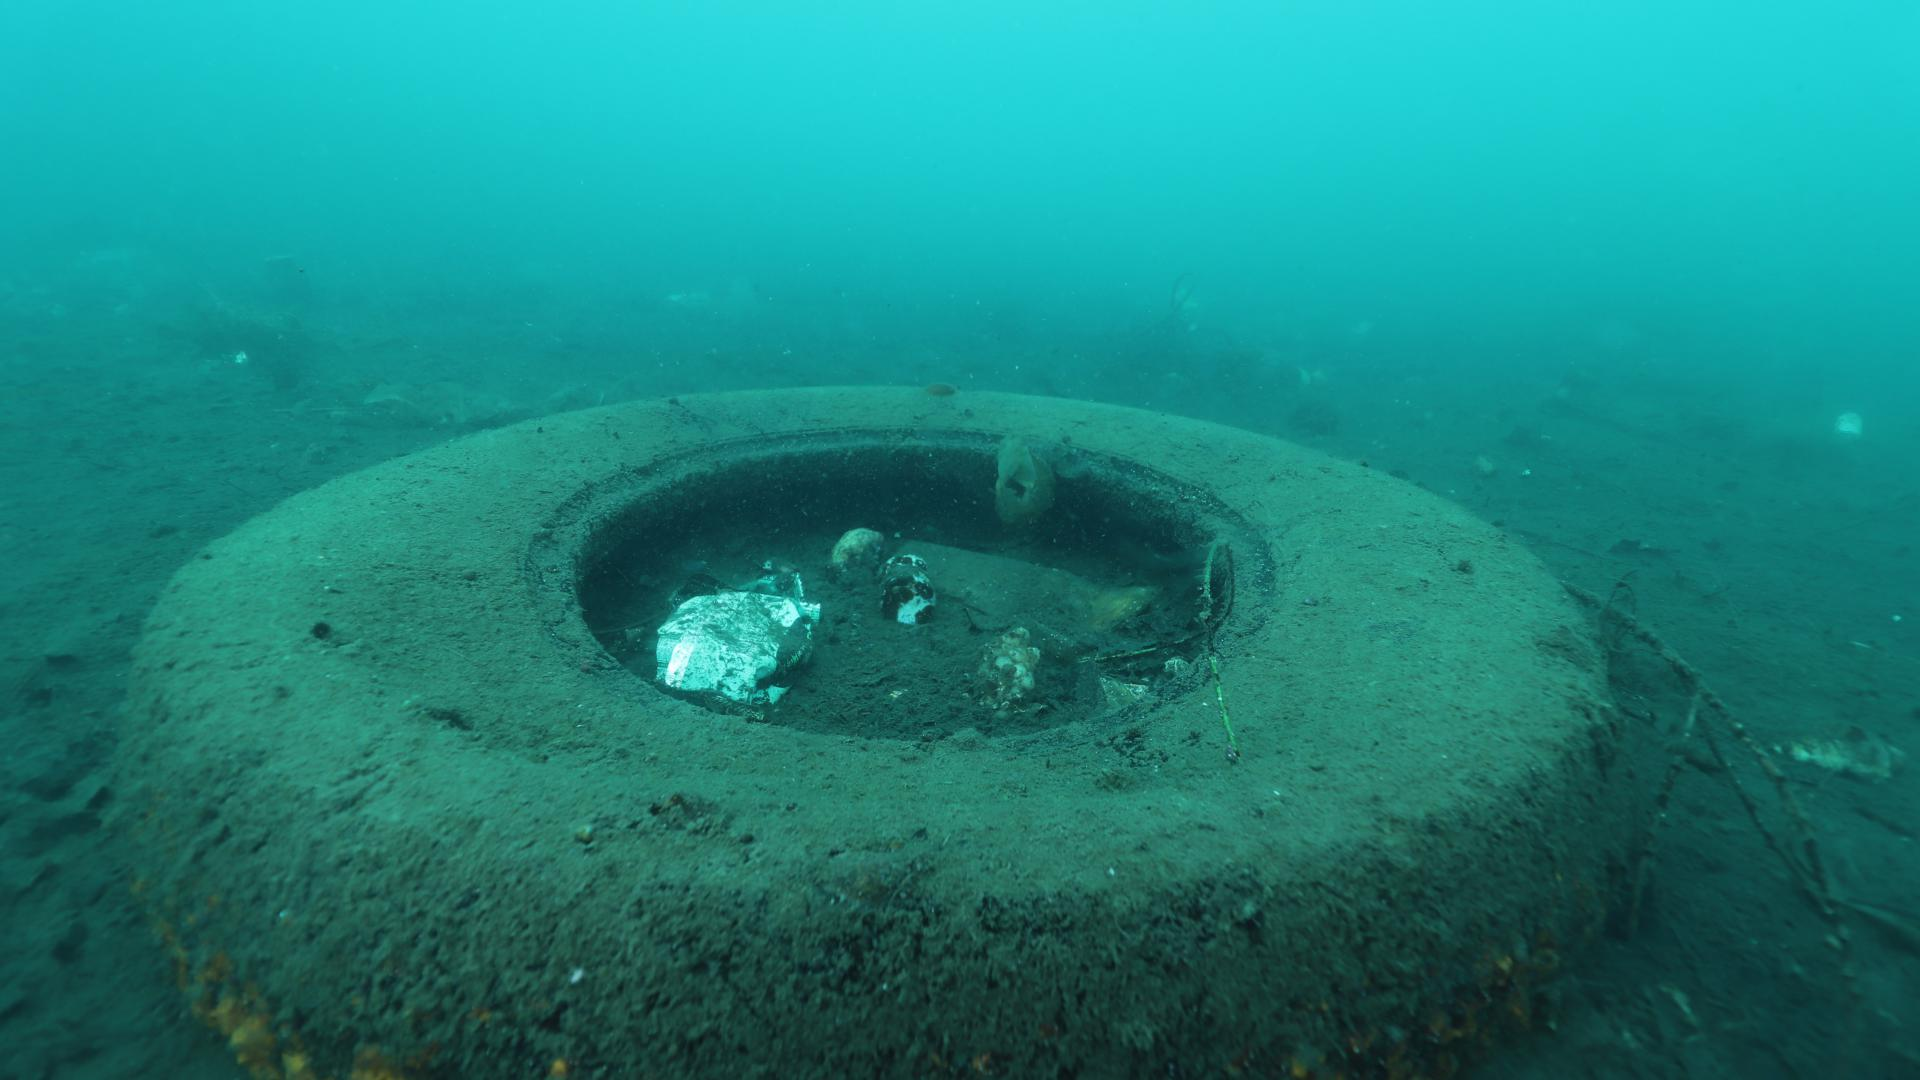tire: (140, 377, 1610, 1080)
